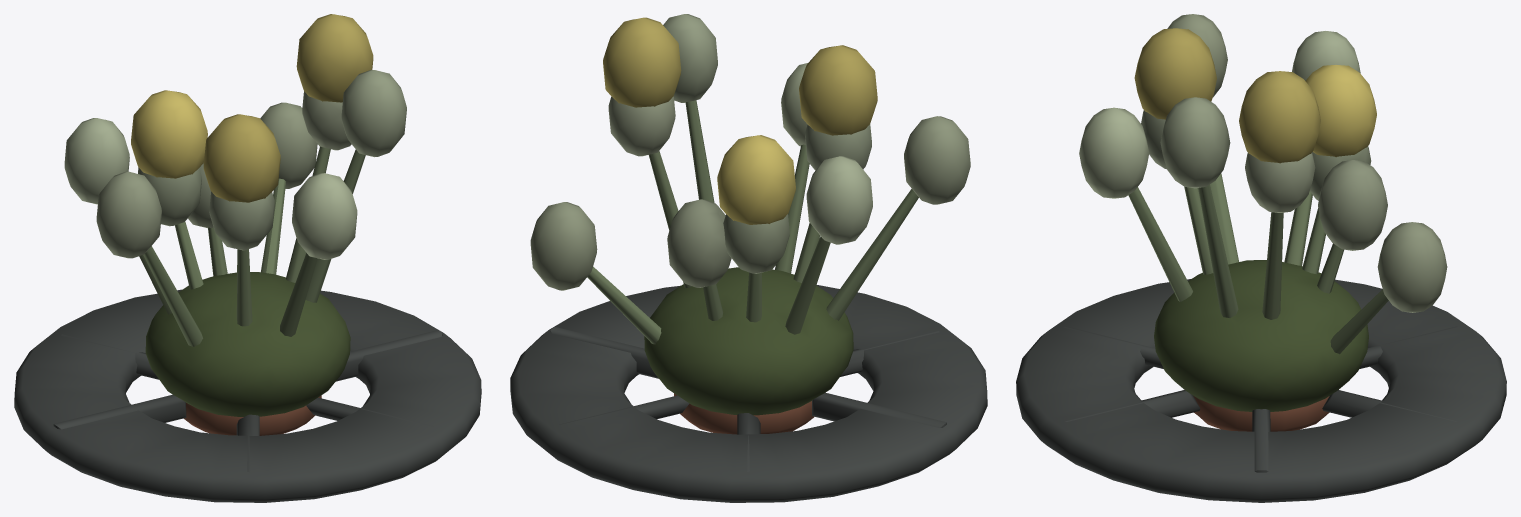
Rendered from rabbitbrush_c.glb.
3 views of the same model, side by side, from view 1: azimuth 30°, elevation 25°; view 2: azimuth 150°, elevation 25°; view 3: azimuth 270°, elevation 25° (orthographic). The views are drawn at different scales.
Visible parts, largest first — view 1: Surface; view 2: Surface; view 3: Surface.
Boxes of the visible parts, x1,y1,x2,y2 form: Surface: (14, 14, 481, 502); Surface: (510, 14, 987, 502); Surface: (1016, 14, 1506, 502).
Bounding box in the file's own units: 1.9 × 1.65 × 1.9.
